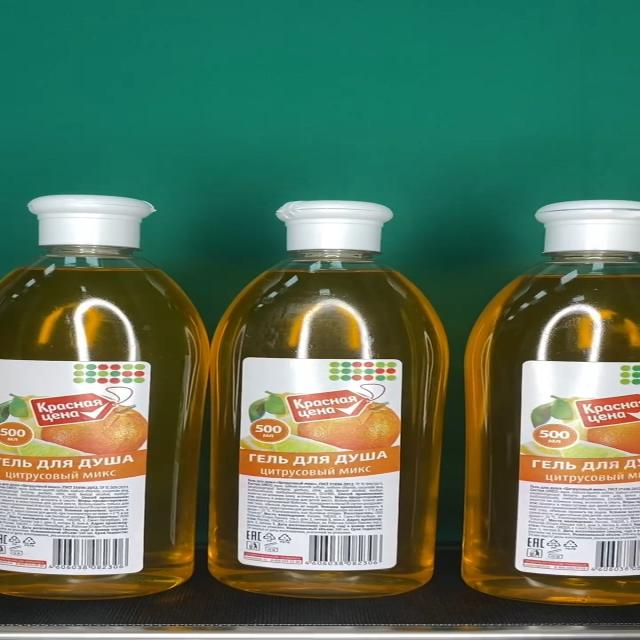Bottle: (209, 200, 452, 599), (0, 195, 210, 601)
Cap: (28, 195, 155, 248), (274, 201, 393, 251)
